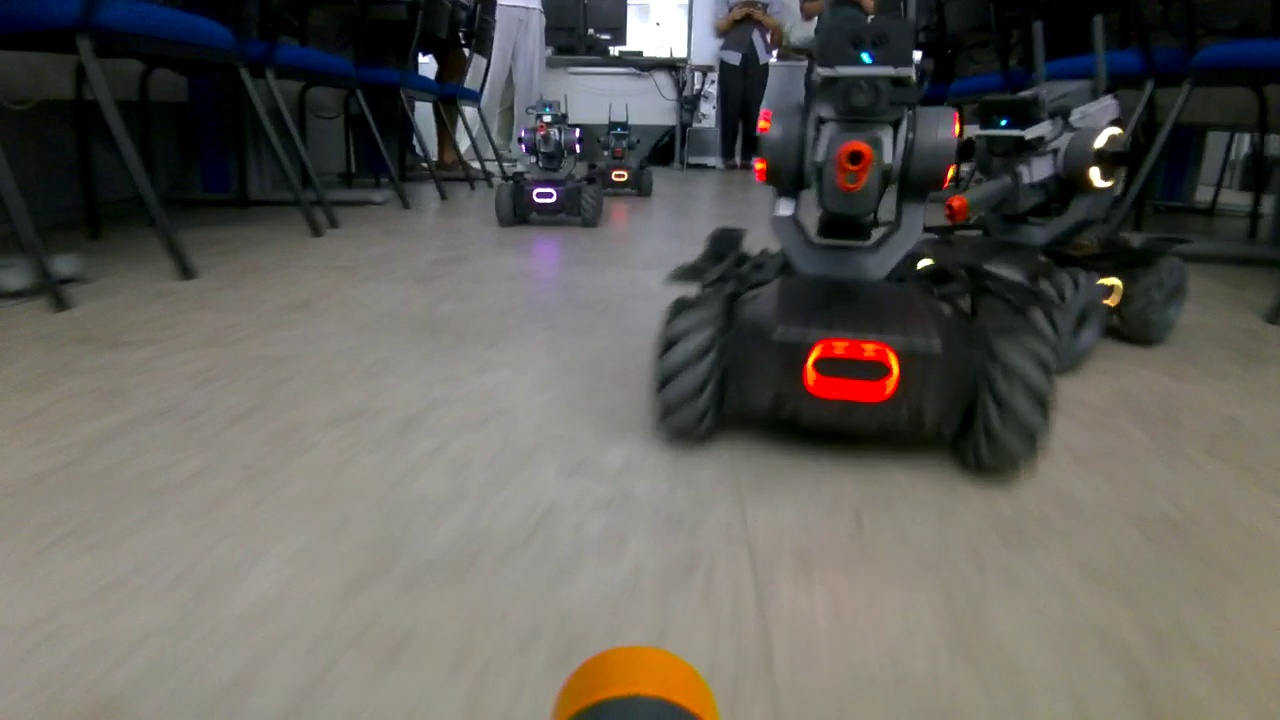robot: (644, 5, 1073, 484), (948, 21, 1197, 367), (489, 97, 604, 232), (586, 103, 654, 203)
